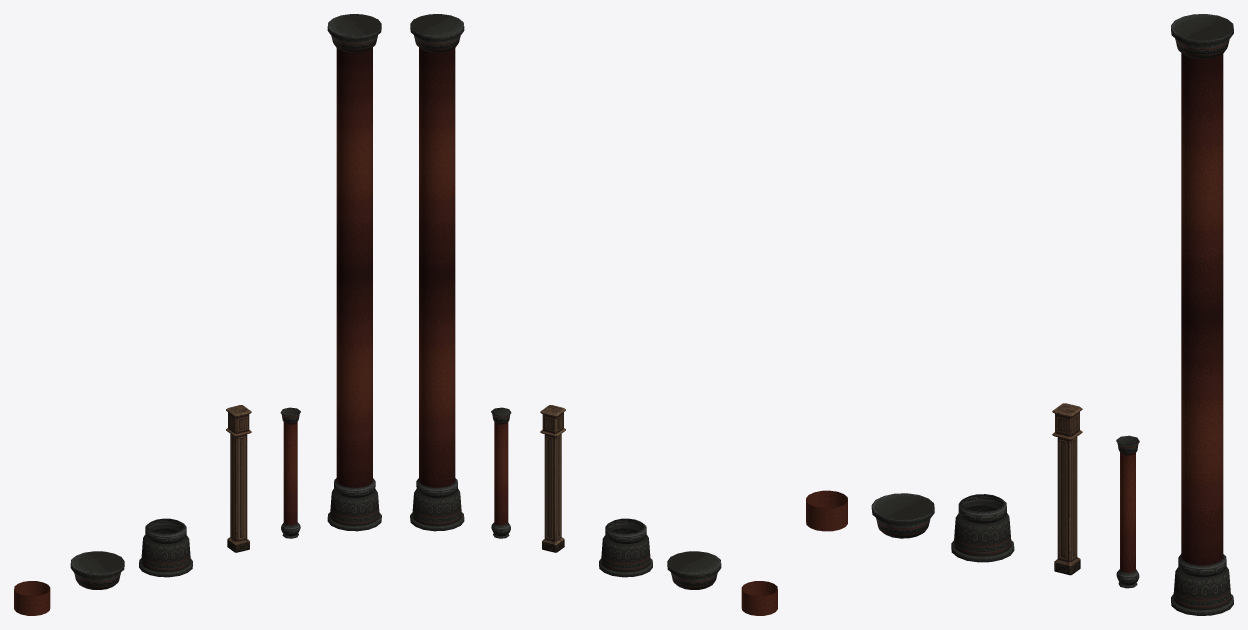
File: EnvMdrMD_Desert_Castle_A_Pillar_A.FBX
3 renders of one model, left to right at view 1: azimuth 30°, elevation 25°; view 2: azimuth 150°, elevation 25°; view 3: azimuth 330°, elevation 25°, orthographic. The views are drawn at different scales.
Visible parts, largest first — view 1: EnvMdrMD_Desert_Castle_A_Pillar_A, EnvMdrMD_Desert_Castle_A_Pillar_B, EnvMdrMD_Desert_Castle_A_Pillar_A_Start, EnvMdrMD_Desert_Castle_A_Pillar_C, EnvMdrMD_Desert_Castle_A_Pillar_A_End, EnvMdrMD_Desert_Castle_A_Pillar_A_Loop; view 2: EnvMdrMD_Desert_Castle_A_Pillar_A, EnvMdrMD_Desert_Castle_A_Pillar_B, EnvMdrMD_Desert_Castle_A_Pillar_A_Start, EnvMdrMD_Desert_Castle_A_Pillar_C, EnvMdrMD_Desert_Castle_A_Pillar_A_End, EnvMdrMD_Desert_Castle_A_Pillar_A_Loop; view 3: EnvMdrMD_Desert_Castle_A_Pillar_A, EnvMdrMD_Desert_Castle_A_Pillar_B, EnvMdrMD_Desert_Castle_A_Pillar_A_Start, EnvMdrMD_Desert_Castle_A_Pillar_C, EnvMdrMD_Desert_Castle_A_Pillar_A_End, EnvMdrMD_Desert_Castle_A_Pillar_A_Loop.
Part boxes in pixels (x1=…): EnvMdrMD_Desert_Castle_A_Pillar_A: x1=327, y1=14, x2=381, y2=531; EnvMdrMD_Desert_Castle_A_Pillar_B: x1=226, y1=405, x2=251, y2=552; EnvMdrMD_Desert_Castle_A_Pillar_A_Start: x1=139, y1=518, x2=192, y2=577; EnvMdrMD_Desert_Castle_A_Pillar_C: x1=280, y1=407, x2=300, y2=538; EnvMdrMD_Desert_Castle_A_Pillar_A_End: x1=70, y1=551, x2=124, y2=589; EnvMdrMD_Desert_Castle_A_Pillar_A_Loop: x1=14, y1=581, x2=50, y2=615; EnvMdrMD_Desert_Castle_A_Pillar_A: x1=410, y1=14, x2=464, y2=531; EnvMdrMD_Desert_Castle_A_Pillar_B: x1=540, y1=405, x2=565, y2=552; EnvMdrMD_Desert_Castle_A_Pillar_A_Start: x1=599, y1=518, x2=652, y2=577; EnvMdrMD_Desert_Castle_A_Pillar_C: x1=491, y1=407, x2=511, y2=538; EnvMdrMD_Desert_Castle_A_Pillar_A_End: x1=667, y1=551, x2=721, y2=589; EnvMdrMD_Desert_Castle_A_Pillar_A_Loop: x1=741, y1=581, x2=777, y2=615; EnvMdrMD_Desert_Castle_A_Pillar_A: x1=1171, y1=14, x2=1233, y2=615; EnvMdrMD_Desert_Castle_A_Pillar_B: x1=1052, y1=403, x2=1082, y2=575; EnvMdrMD_Desert_Castle_A_Pillar_A_Start: x1=951, y1=494, x2=1014, y2=562; EnvMdrMD_Desert_Castle_A_Pillar_C: x1=1116, y1=435, x2=1139, y2=588; EnvMdrMD_Desert_Castle_A_Pillar_A_End: x1=871, y1=493, x2=934, y2=538; EnvMdrMD_Desert_Castle_A_Pillar_A_Loop: x1=806, y1=490, x2=847, y2=531.
Size of the model in its own units: 1917 by 2550 by 252.
